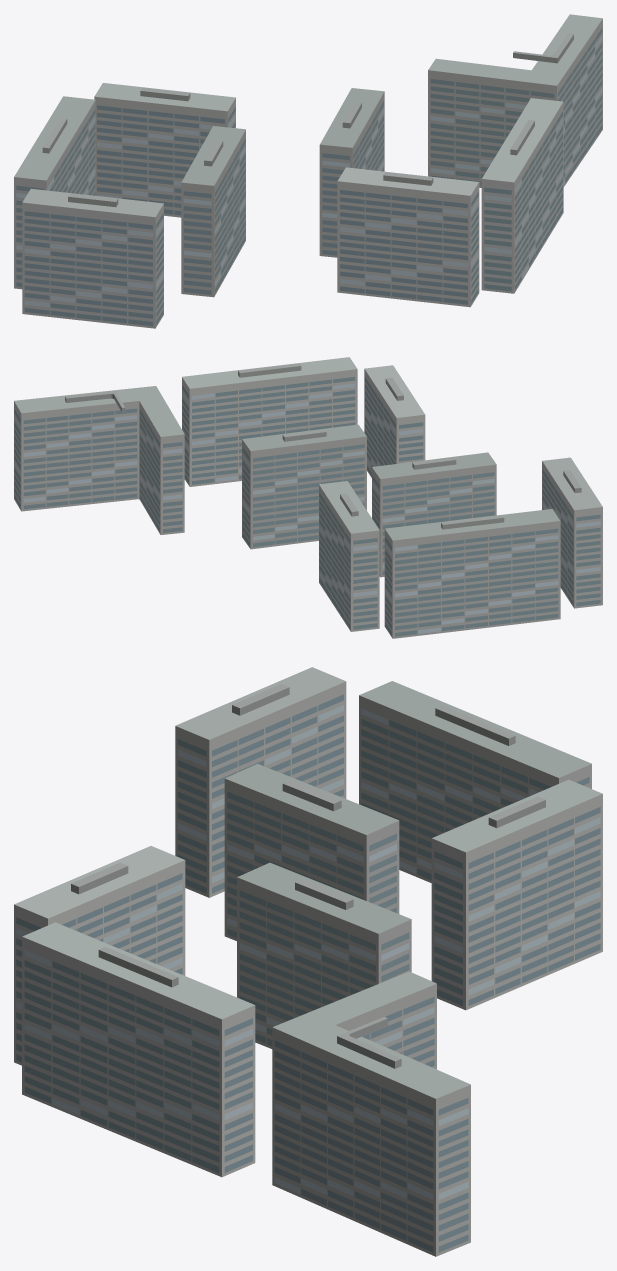
Rendered from apt-a15176701.glb.
The picture shows the model from 3 angles, top to bottom: view 1: azimuth 30°, elevation 25°; view 2: azimuth 150°, elevation 25°; view 3: azimuth 270°, elevation 25°; orthographic projection. The views are drawn at different scales.
Parts seen in each view (by area): view 1: apt-a15176701; view 2: apt-a15176701; view 3: apt-a15176701.
Boxes of the visible parts, <box> form: apt-a15176701: <box>14,14,602,328</box>; apt-a15176701: <box>14,357,602,638</box>; apt-a15176701: <box>14,667,602,1256</box>.
Bounding box in the file's own units: 230 × 41 × 132.
